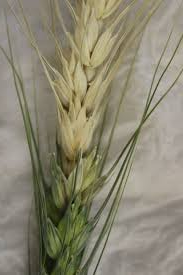Wheat scab: (35, 1, 129, 272)
